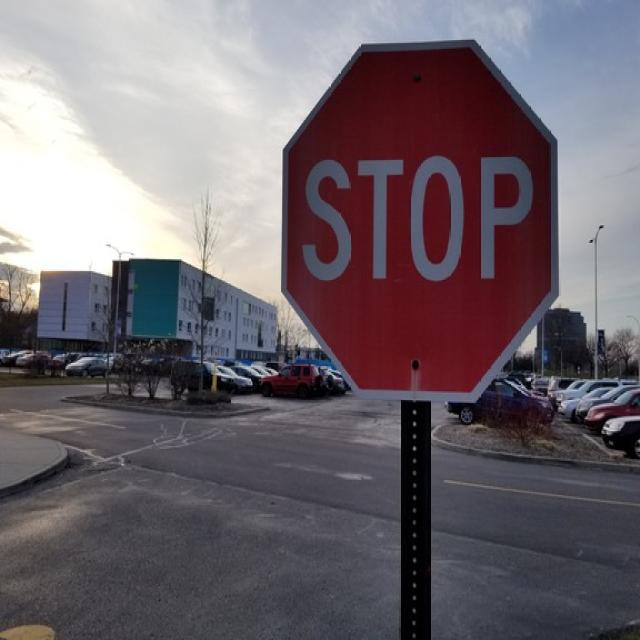Panneau-Stop: (264, 27, 562, 409)
